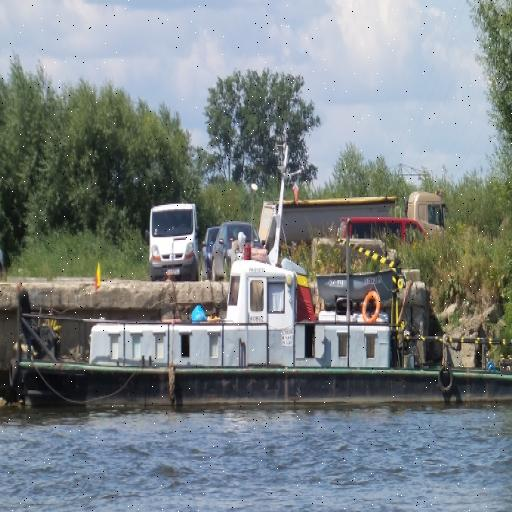tugboat: (2, 231, 512, 420)
